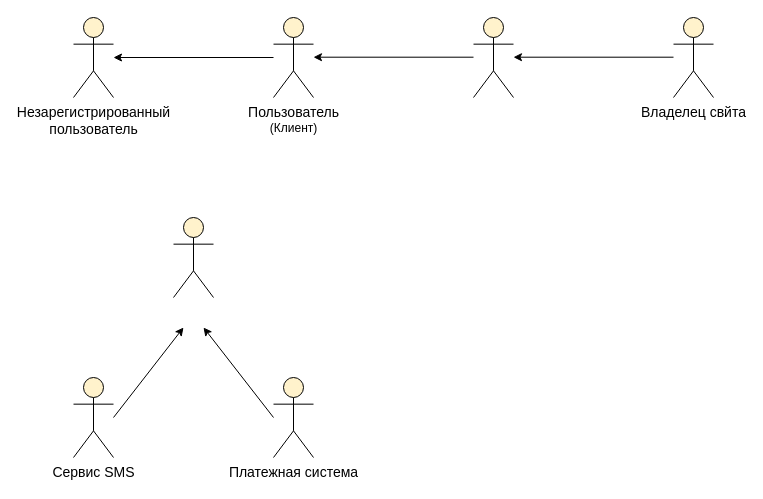
Some shapes in this 763 by 499 pixel diagram are drawn without their labels. Each missing label, with the centre of its shape:
"Администратор" goes at (493,57).
"Внешняя система" goes at (193,257).
